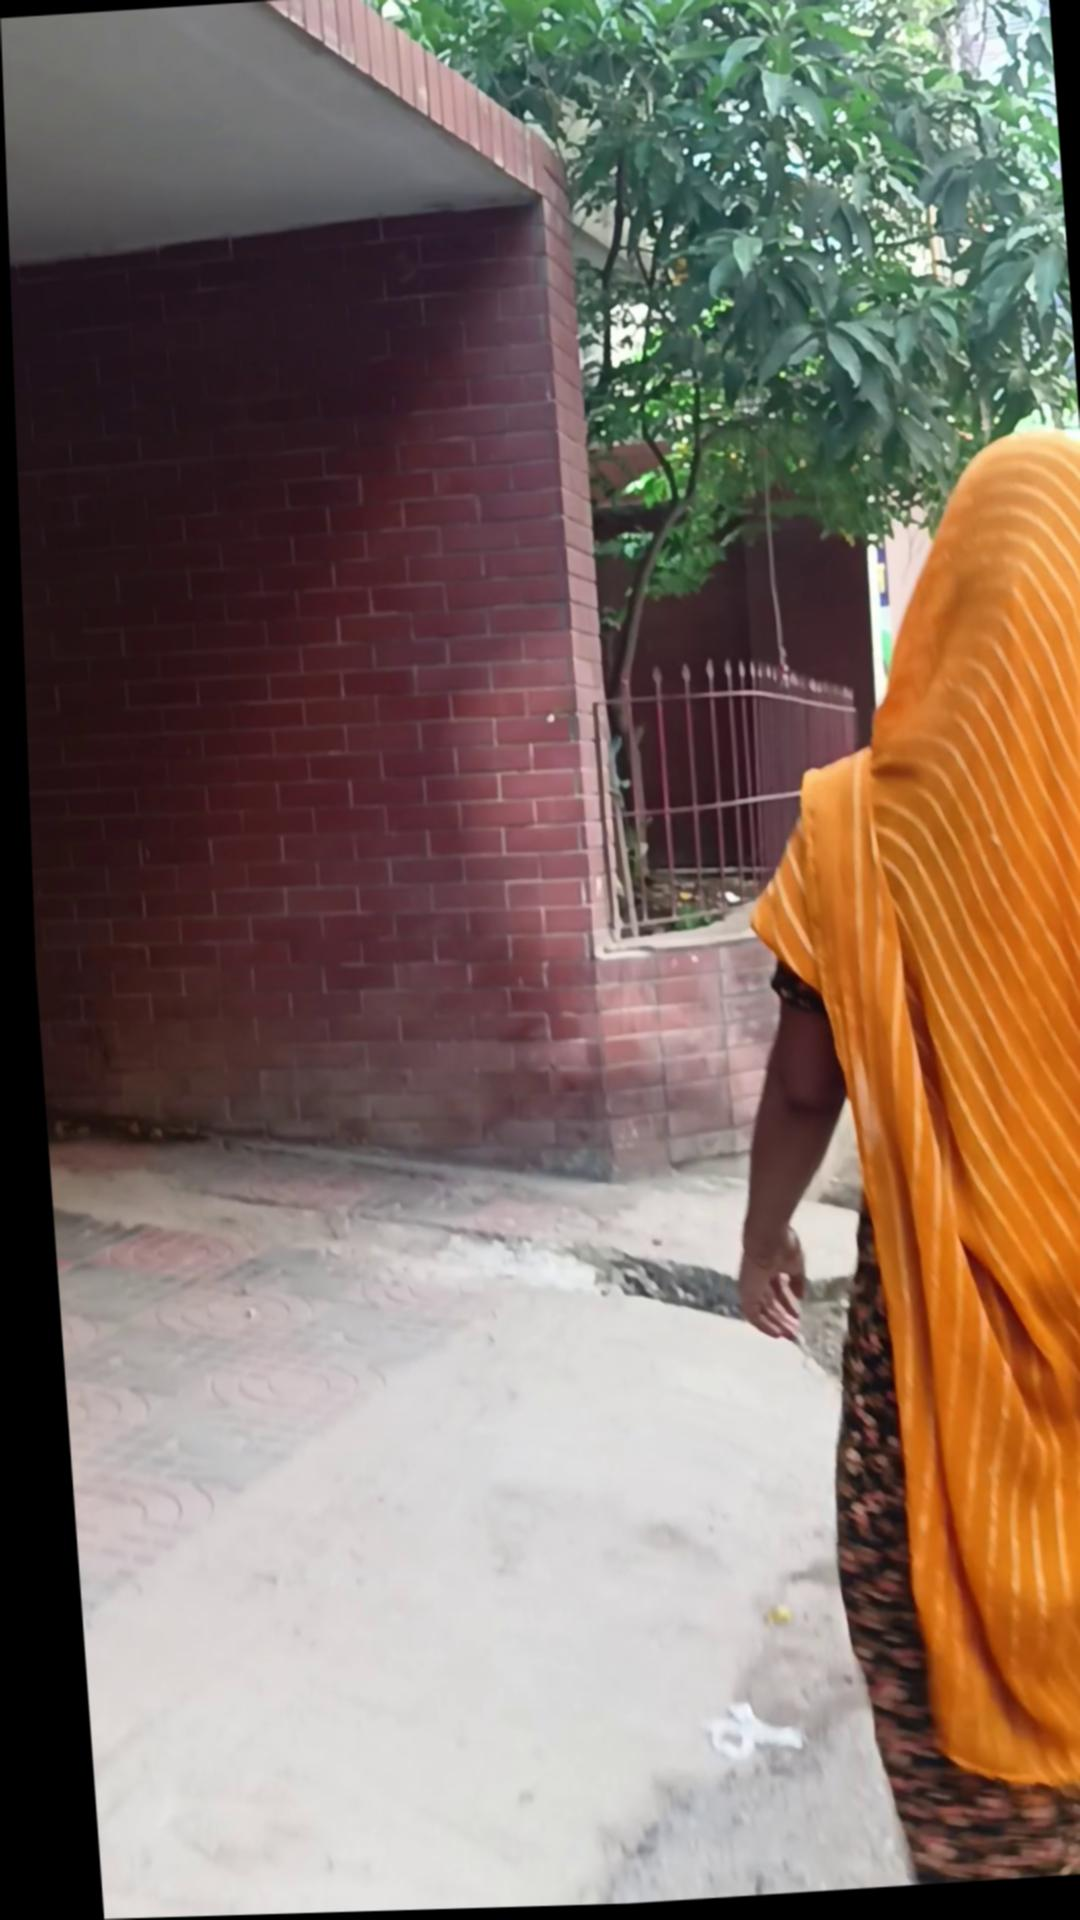Crosswalk: (62, 1404, 756, 1920)
Muddy road: (671, 429, 1080, 1832)
